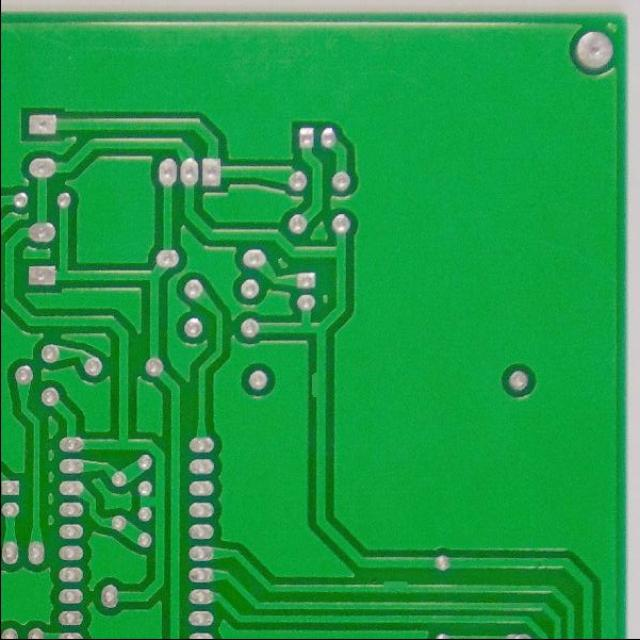spur: (307, 365, 329, 405), (381, 574, 416, 595)
